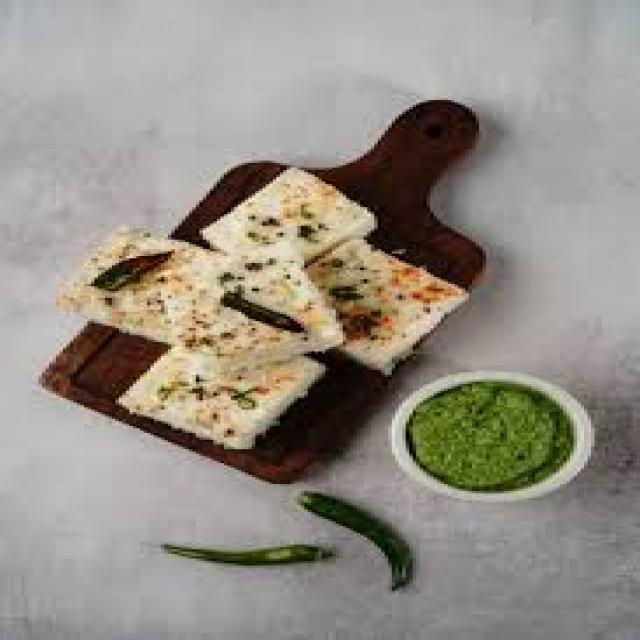DHOKLA: (42, 107, 416, 449), (399, 161, 479, 349)
